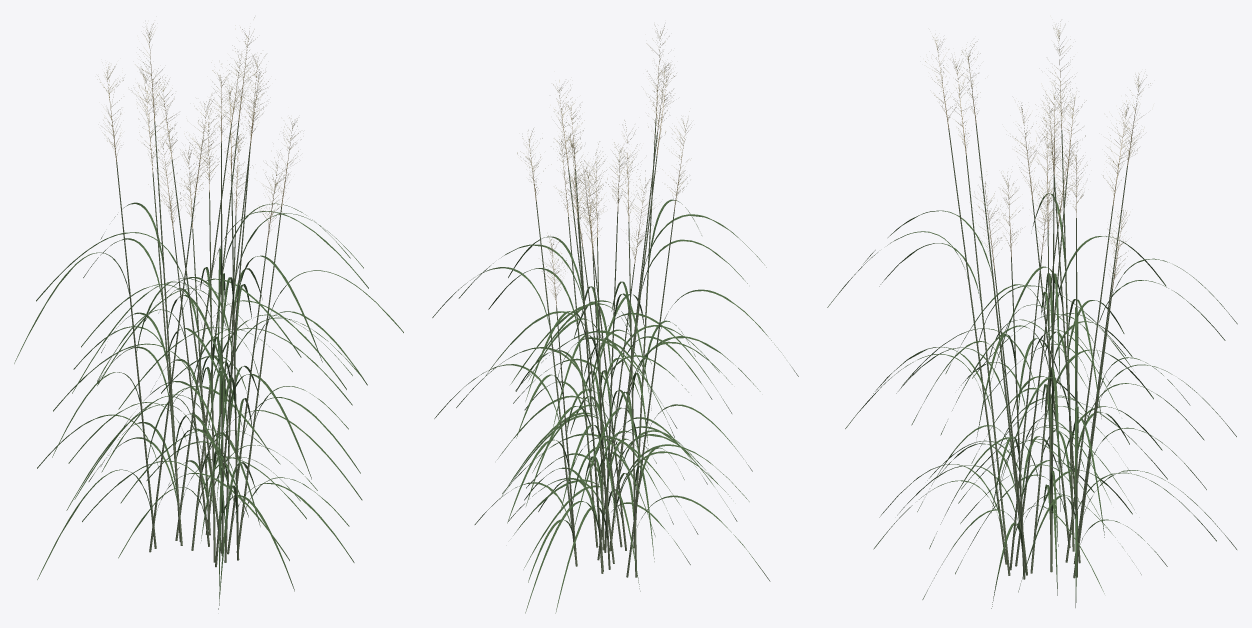
Rendered from saccharum-3-lite.glb.
3 views of the same model, side by side, from view 1: azimuth 30°, elevation 25°; view 2: azimuth 150°, elevation 25°; view 3: azimuth 270°, elevation 25° (orthographic). The views are drawn at different scales.
Parts seen in each view (by area): view 1: grass-leaf, stem, panicle, rachis; view 2: grass-leaf, stem, panicle, rachis; view 3: grass-leaf, stem, panicle, rachis.
Part boxes in pixels (<box>): grass-leaf: <box>14,202,403,609</box>; stem: <box>116,122,281,567</box>; panicle: <box>97,27,301,234</box>; rachis: <box>107,37,291,241</box>; grass-leaf: <box>432,199,798,613</box>; stem: <box>536,118,674,577</box>; panicle: <box>520,26,691,300</box>; rachis: <box>529,43,684,306</box>; grass-leaf: <box>827,193,1237,608</box>; stem: <box>948,123,1127,579</box>; panicle: <box>931,21,1150,282</box>; rachis: <box>938,49,1138,288</box>.
Size of the model in its own units: 1.42 by 1.99 by 1.36.
4 materials, 2 textured.
